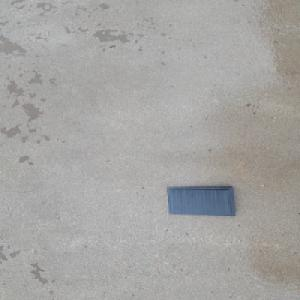PlasticPart: (166, 186, 236, 216)
